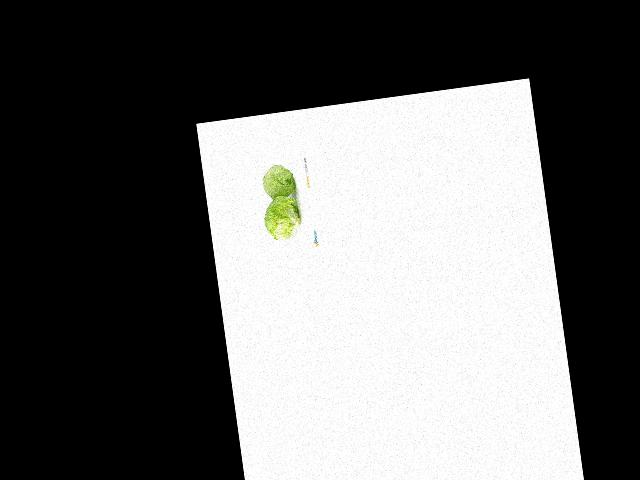lettuce: (260, 160, 305, 210)
